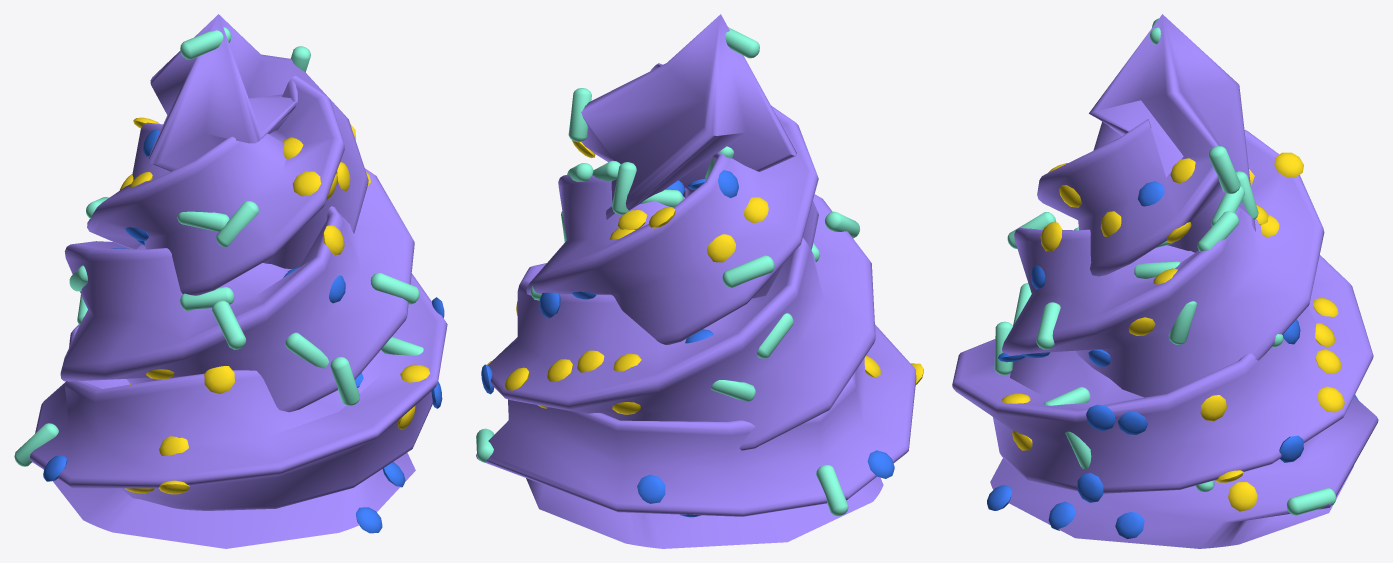
File: Ice Cream Hat P.fbx
3 views of the same model, side by side, from view 1: azimuth 30°, elevation 25°; view 2: azimuth 150°, elevation 25°; view 3: azimuth 270°, elevation 25° (orthographic). The views are drawn at different scales.
Visible parts, largest first — view 1: Ice Cream Hat P; view 2: Ice Cream Hat P; view 3: Ice Cream Hat P.
Boxes of the visible parts, x1,y1,x2,y2 form: Ice Cream Hat P: (14, 14, 447, 548); Ice Cream Hat P: (476, 14, 923, 548); Ice Cream Hat P: (952, 14, 1378, 548).
Size of the model in its own units: 0.492 by 0.5894 by 0.4927.
